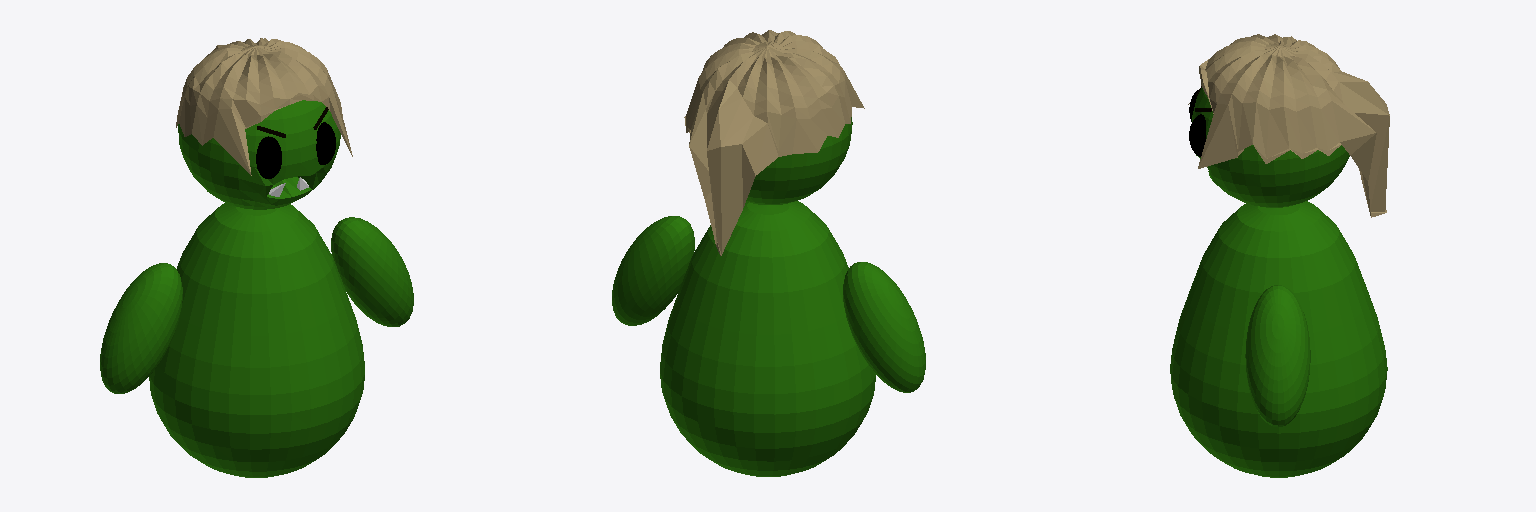
Rendered from TroopOrcHair3.obj.
3 views of the same model, side by side, from view 1: azimuth 30°, elevation 25°; view 2: azimuth 150°, elevation 25°; view 3: azimuth 270°, elevation 25° (orthographic).
Visible parts, largest first — view 1: Sphere001, Sphere007, Sphere002, Sphere003, Sphere004, Sphere005, Sphere006; view 2: Sphere001, Sphere007, Sphere003, Sphere004, Sphere002; view 3: Sphere001, Sphere007, Sphere004, Sphere002, Sphere006.
Boxes of the visible parts, x1=… form: Sphere001: x1=149, y1=203, x2=364, y2=477; Sphere007: x1=176, y1=38, x2=352, y2=175; Sphere002: x1=178, y1=100, x2=340, y2=209; Sphere003: x1=100, y1=263, x2=182, y2=393; Sphere004: x1=331, y1=217, x2=413, y2=326; Sphere005: x1=256, y1=136, x2=281, y2=178; Sphere006: x1=316, y1=122, x2=335, y2=164; Sphere001: x1=660, y1=201, x2=875, y2=476; Sphere007: x1=684, y1=30, x2=864, y2=255; Sphere003: x1=843, y1=262, x2=925, y2=392; Sphere004: x1=612, y1=216, x2=694, y2=325; Sphere002: x1=746, y1=117, x2=852, y2=204; Sphere001: x1=1170, y1=201, x2=1387, y2=477; Sphere007: x1=1188, y1=34, x2=1389, y2=217; Sphere004: x1=1245, y1=285, x2=1310, y2=426; Sphere002: x1=1192, y1=88, x2=1349, y2=207; Sphere006: x1=1189, y1=114, x2=1205, y2=156.
Bounding box in the file's own units: 32.23 × 42.43 × 19.99.